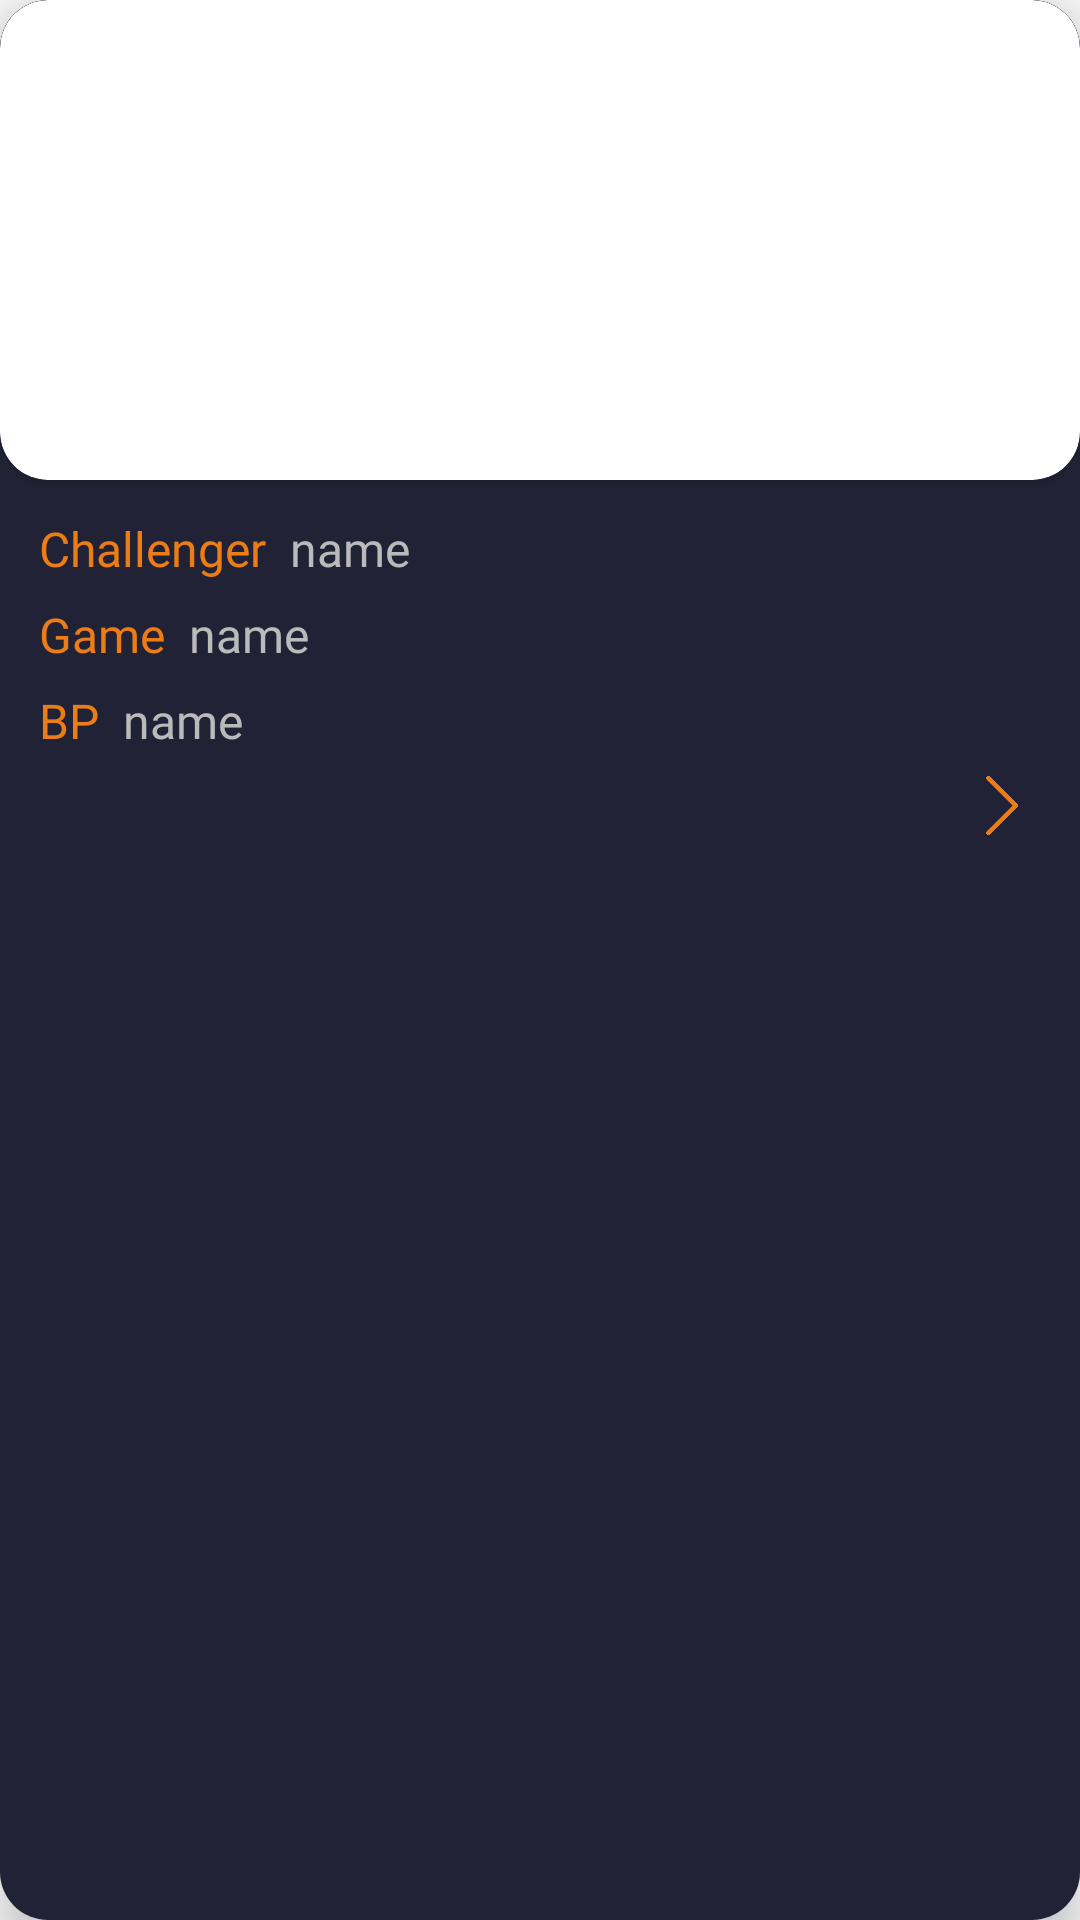

Named icons in this screenshot (1080px×1920px) and their bounding boxes, box(x1, y1, x2, y2):
nextorange: box(986, 776, 1018, 835)
